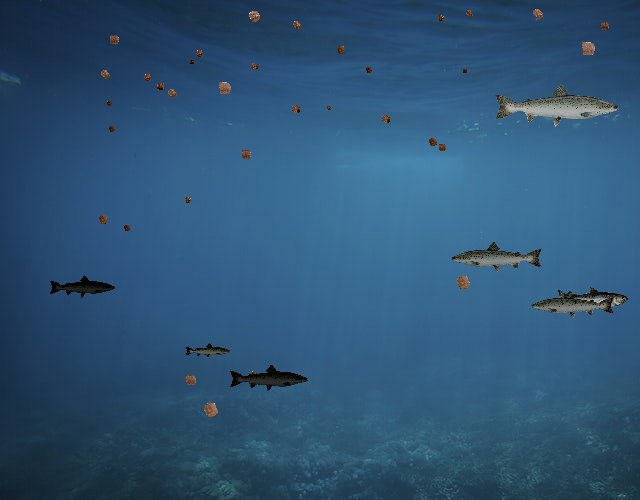Fish: (492, 82, 621, 128), (451, 240, 545, 274), (530, 289, 616, 320), (228, 364, 309, 393), (556, 287, 629, 313), (48, 274, 116, 298), (185, 342, 232, 359)
Pellet: (196, 394, 226, 424), (242, 4, 267, 29), (179, 369, 202, 392), (376, 109, 395, 128), (180, 193, 195, 208), (120, 221, 134, 235), (433, 11, 448, 24)
